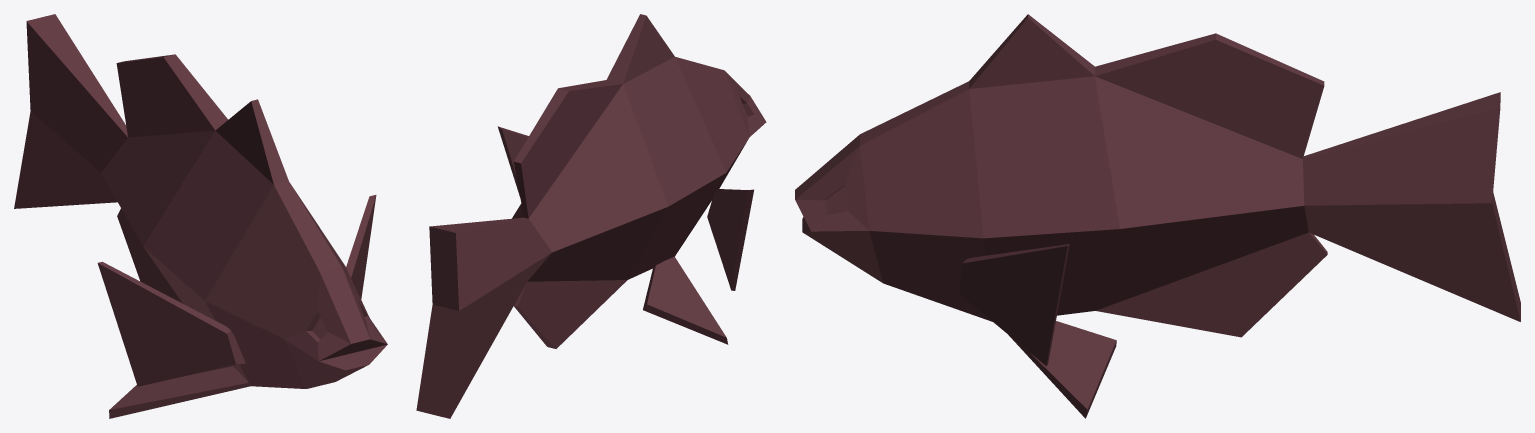
File: scifi-scifi-hologram-fish.glb
3 renders of one model, left to right at view 1: azimuth 30°, elevation 25°; view 2: azimuth 150°, elevation 25°; view 3: azimuth 270°, elevation 25°, orthographic. The views are drawn at different scales.
Parts seen in each view (by area): view 1: scifi-hologram-fish; view 2: scifi-hologram-fish; view 3: scifi-hologram-fish.
Part boxes in pixels (<box>): scifi-hologram-fish: <box>14,14,387,418</box>; scifi-hologram-fish: <box>416,14,766,418</box>; scifi-hologram-fish: <box>795,14,1520,418</box>.
Size of the model in its own units: 2.36 by 2.51 by 4.87.
